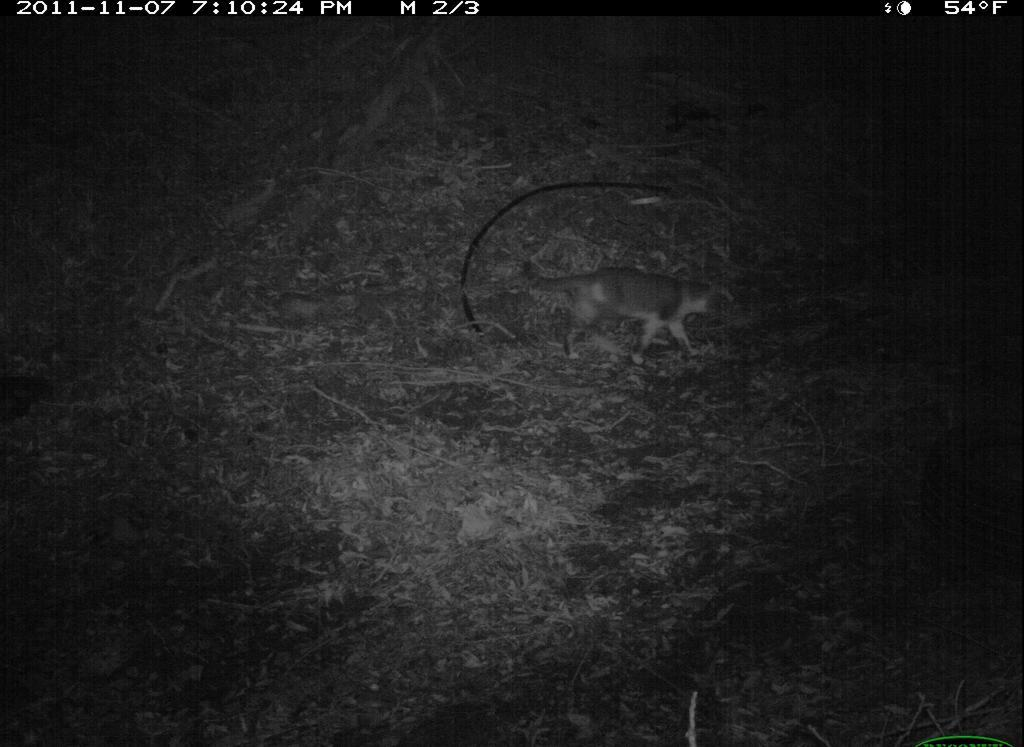cat: (518, 250, 728, 374)
